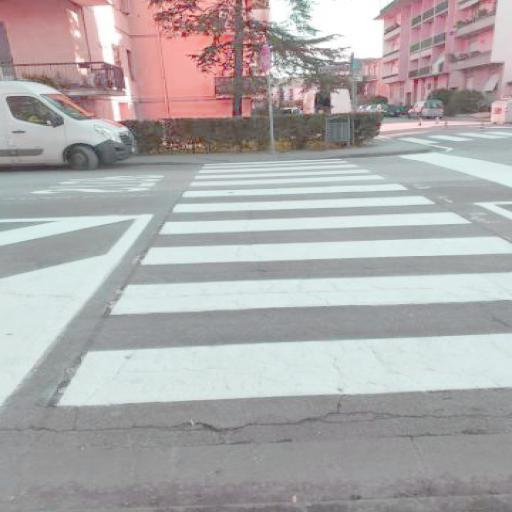crosswalk: (30, 274, 510, 427), (135, 206, 511, 267), (182, 165, 398, 187)
